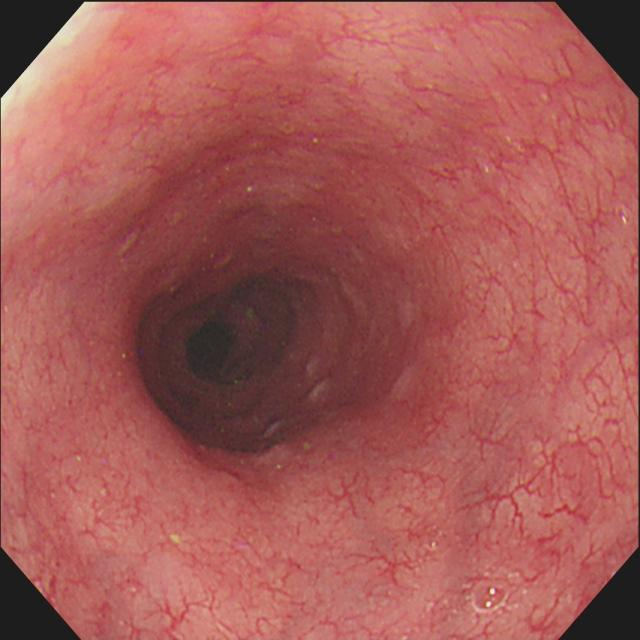E: (142, 246, 373, 456)
T: (468, 575, 529, 619)
